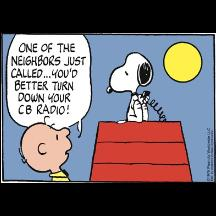charlie: (17, 115, 73, 183)
snoopy: (105, 51, 155, 124)
